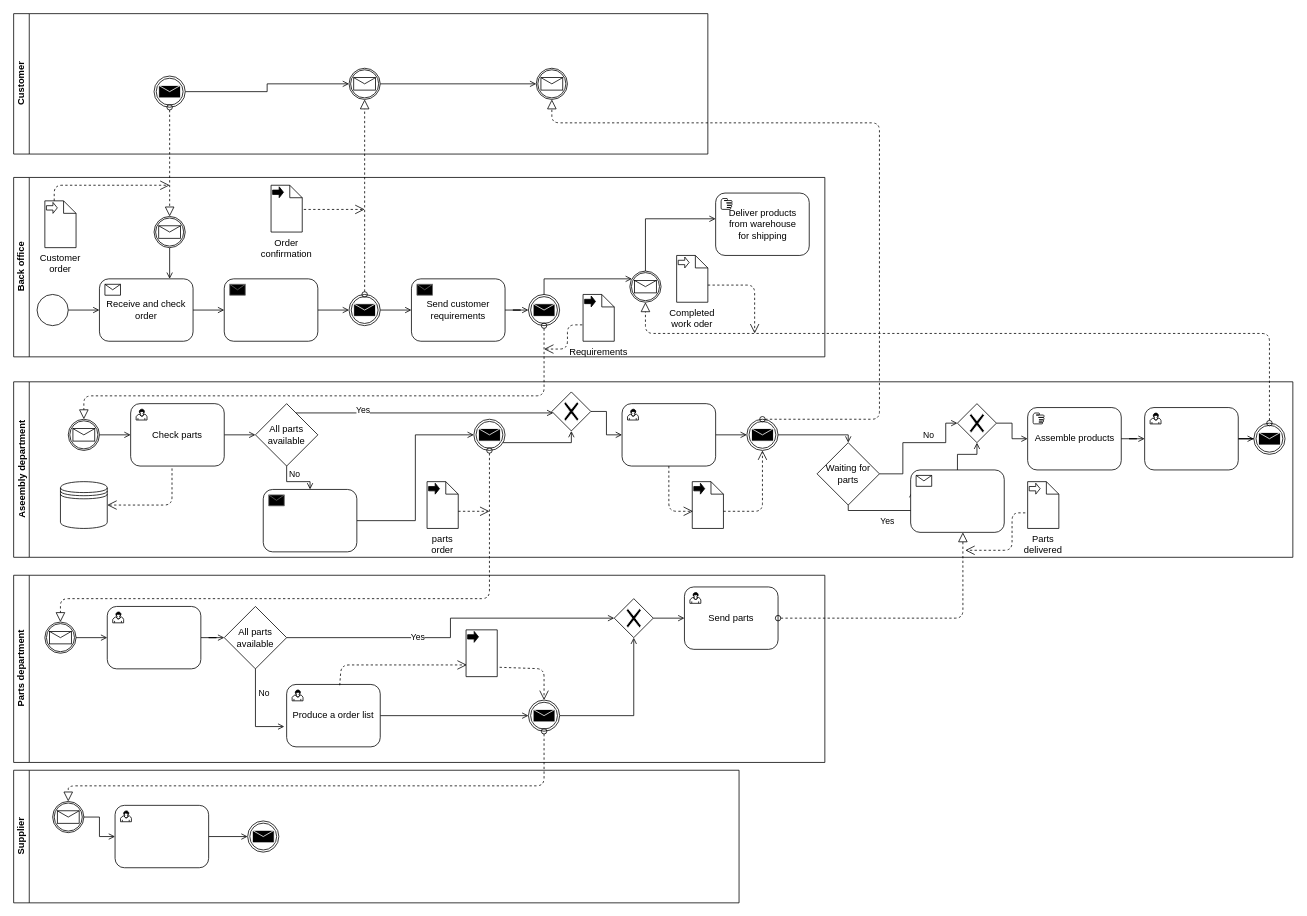
Some shapes in this 1307 by 916 pixel diagram are drawn without their labels. Here are the shapes that lost their labels. From the top down, the centre of each, then its label:
At (270,309): "Send confirmation".
At (668,434): "Produce delivery schedule".
At (1191,438): "Produce completed work order".
At (83,504): "Parts database".
At (309,520): "Send order".
At (707,504): "Delivery schedule".
At (957,500): "Receive prdocuts".
At (153,637): "Check purchase order".
At (481,653): "Order list for supplier".
At (161,836): "Produce parts".
